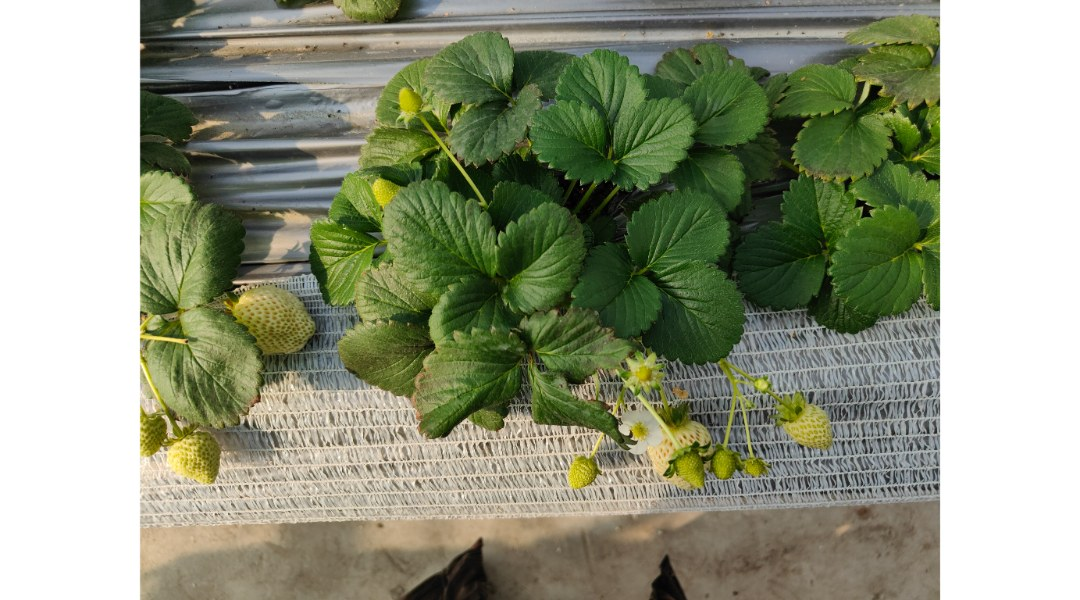berry: (223, 272, 322, 368), (123, 396, 176, 460), (166, 429, 226, 481), (657, 442, 708, 502), (782, 395, 833, 454), (615, 344, 668, 396), (557, 444, 612, 491), (391, 80, 433, 122), (710, 435, 739, 485), (371, 179, 407, 218), (740, 454, 775, 490)
flower: (614, 406, 669, 455)
strain: (417, 115, 492, 204), (114, 324, 186, 352), (133, 349, 158, 413), (740, 415, 758, 462), (721, 401, 735, 444)
